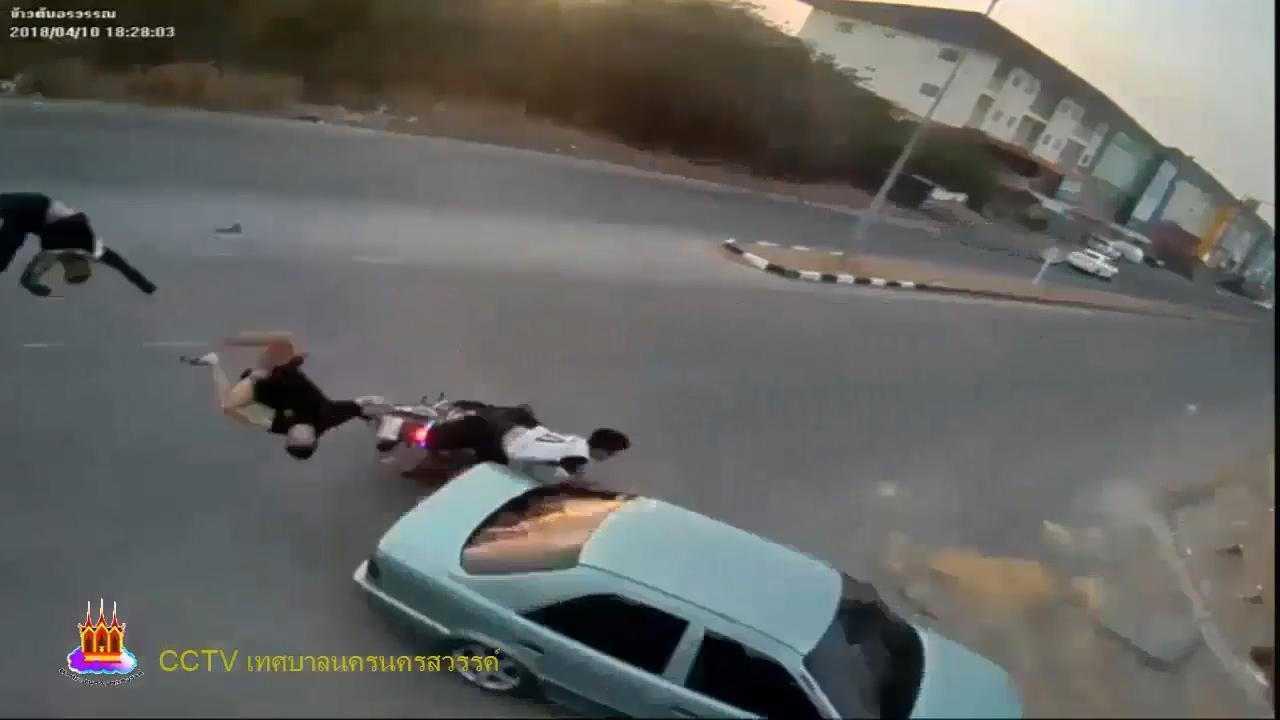accident: (180, 313, 373, 463), (457, 392, 632, 490)
